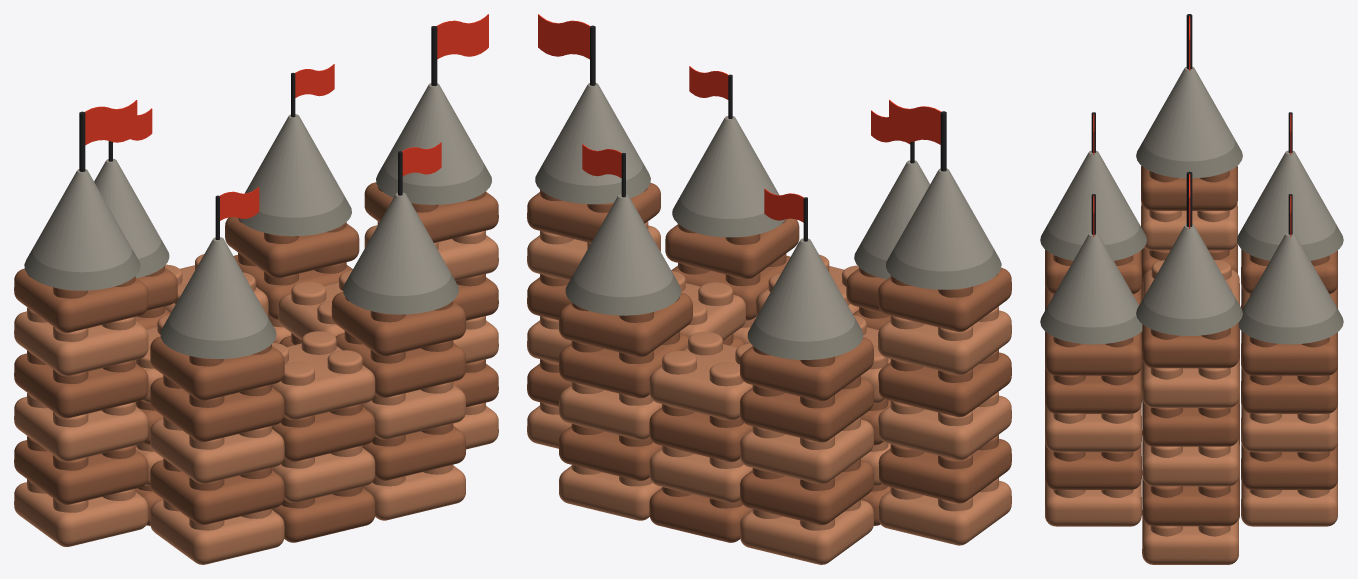
The model's file is Castle-LV2.fbx.
3 views of the same model, side by side, from view 1: azimuth 30°, elevation 25°; view 2: azimuth 150°, elevation 25°; view 3: azimuth 270°, elevation 25° (orthographic). The views are drawn at different scales.
Parts seen in each view (by area): view 1: Castle; view 2: Castle; view 3: Castle.
Part boxes in pixels (x1=…): Castle: x1=14, y1=14, x2=498, y2=564; Castle: x1=527, y1=14, x2=1011, y2=564; Castle: x1=1040, y1=14, x2=1343, y2=564.
Bounding box in the file's own units: 988 × 851 × 619.
Materials: 1 (1 with a texture image).
